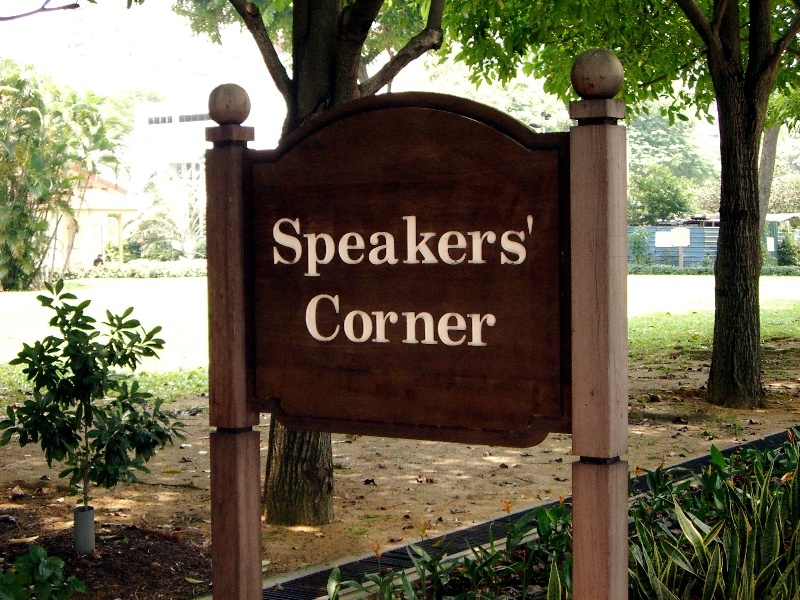text: (273, 215, 288, 278), (289, 215, 304, 278), (305, 215, 320, 278), (321, 215, 336, 278), (337, 215, 352, 278), (353, 215, 368, 278), (369, 215, 384, 278), (385, 215, 400, 278), (401, 215, 416, 278), (417, 215, 432, 278), (433, 215, 448, 278), (449, 215, 464, 278), (465, 215, 480, 278), (481, 215, 496, 278), (497, 215, 512, 278), (513, 215, 528, 278), (481, 291, 497, 348), (305, 291, 320, 348), (321, 291, 336, 348), (337, 291, 352, 348), (353, 291, 368, 348), (369, 291, 384, 348), (385, 291, 400, 348), (401, 291, 416, 348), (417, 291, 432, 348), (433, 291, 448, 348), (449, 291, 464, 348), (465, 291, 480, 348), (529, 215, 537, 278)
